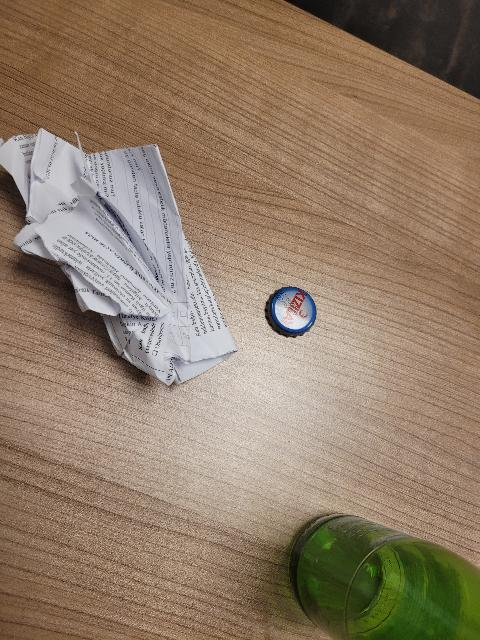Cam: (266, 483, 480, 640)
Kagit: (0, 108, 243, 396)
Metal: (257, 263, 332, 363)
